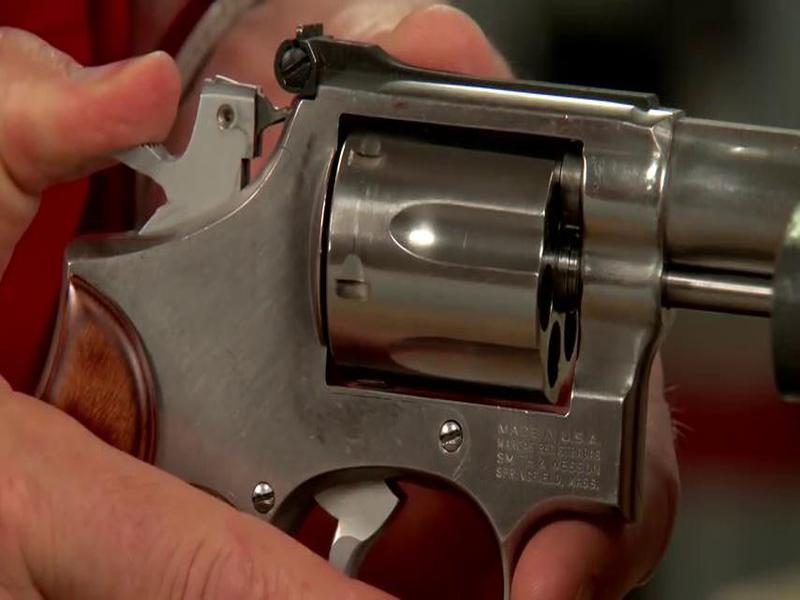Revolver: (37, 22, 800, 535)
